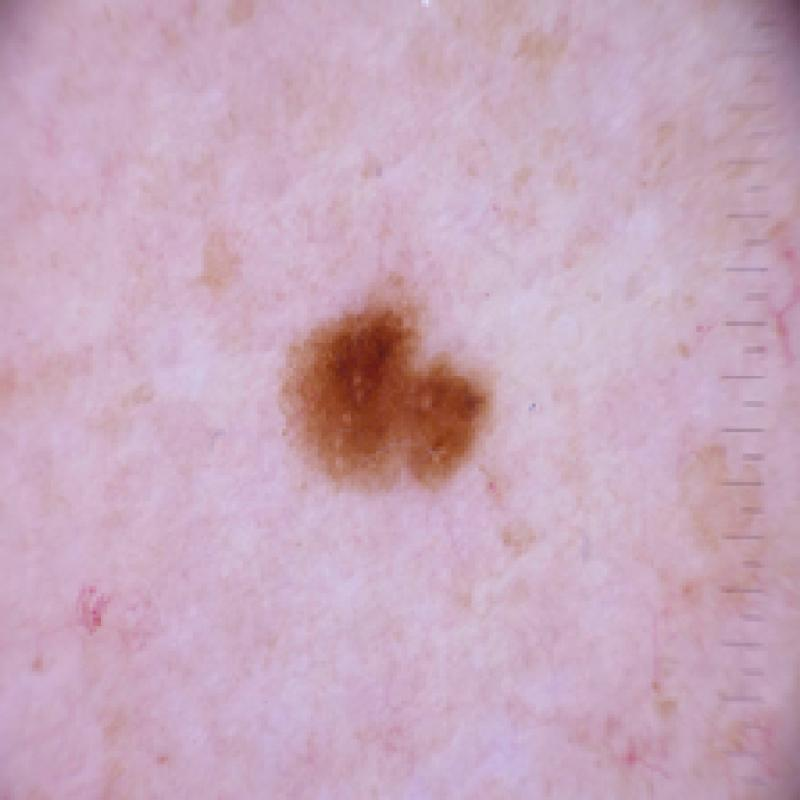benign: (247, 250, 545, 547)
